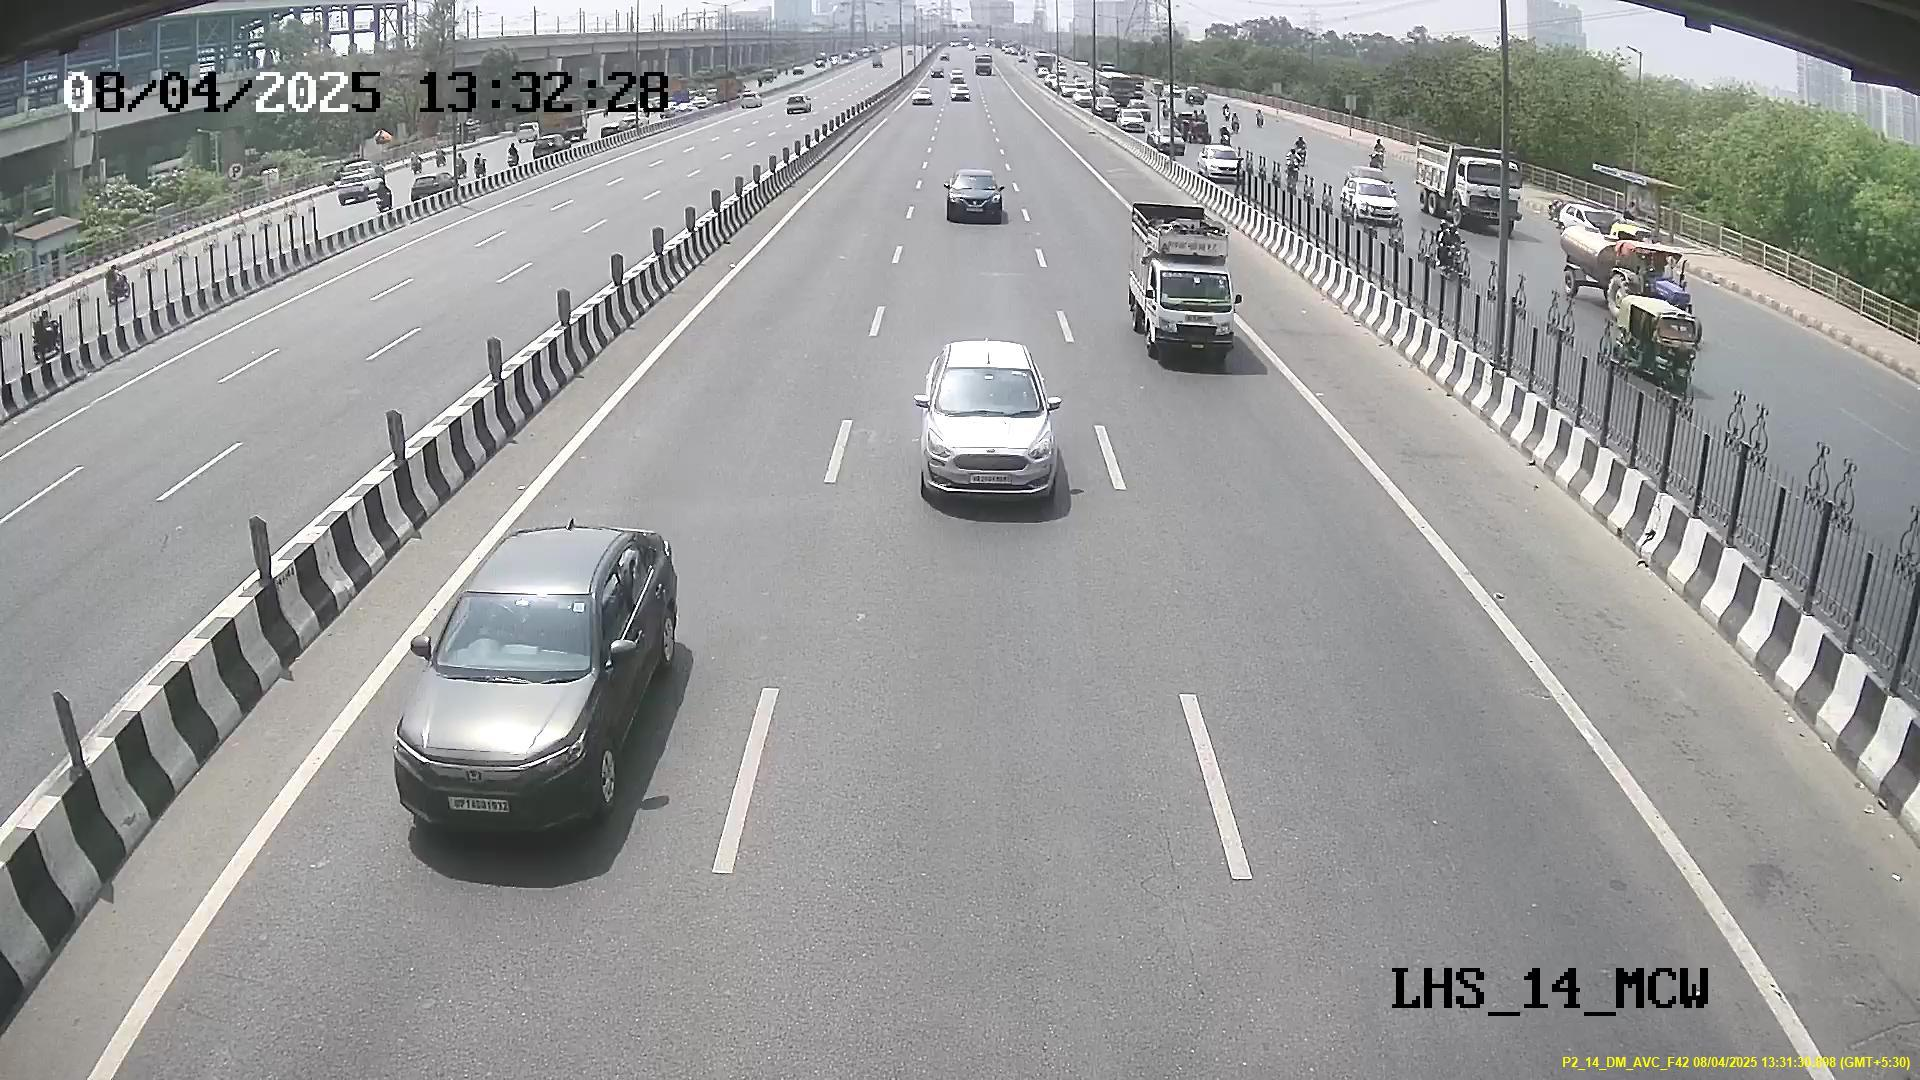car: (392, 550, 645, 841), (918, 357, 1059, 509), (1139, 253, 1237, 356), (943, 171, 1009, 227)
